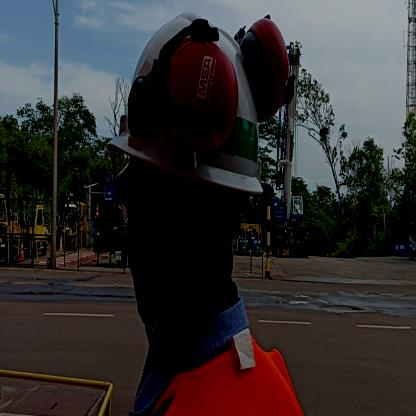Balaclava: (119, 156, 244, 335)
Capacete: (117, 11, 264, 189)
